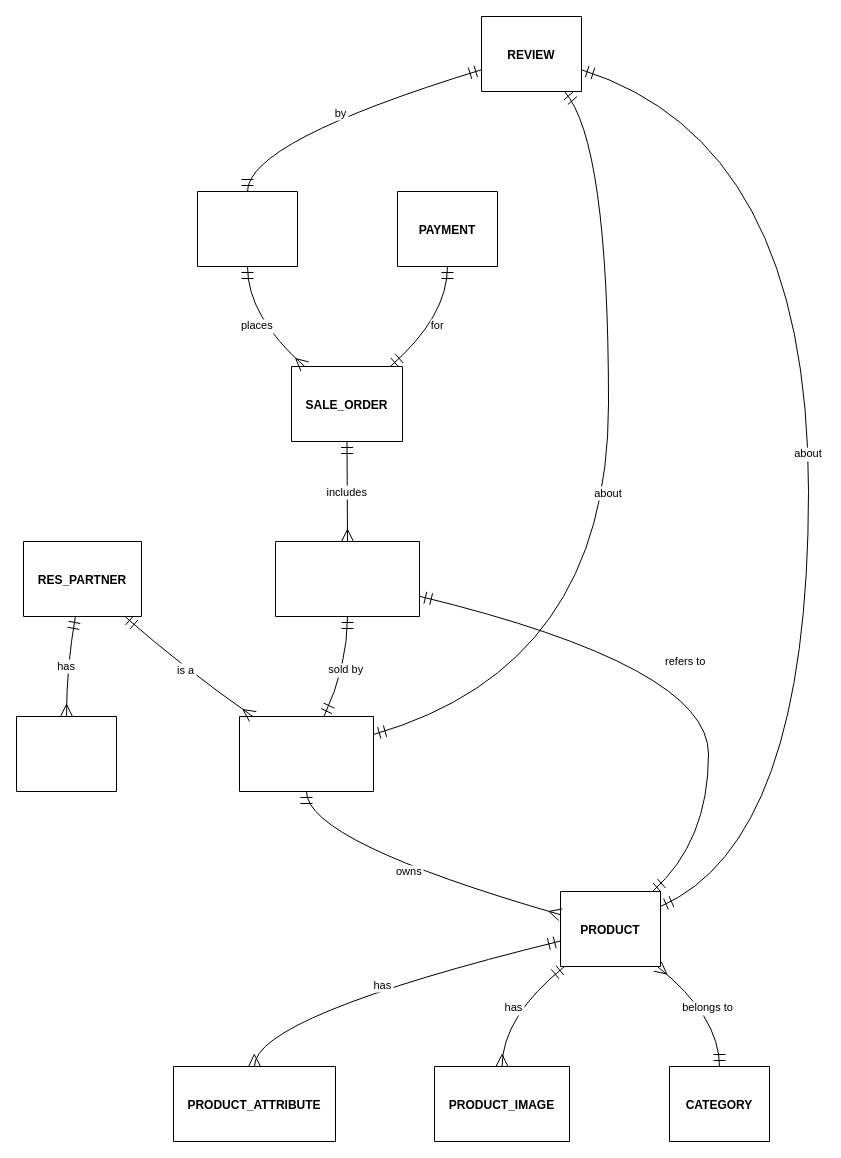
This 841x1158 diagram has some shape labels left out. Each missing label, with the centre of its shape:
CUSTOMER: pixel 247 228
RES_USER: pixel 66 754
SALE_ORDER_LINE: pixel 347 578
SELLER_PROFILE: pixel 306 754
